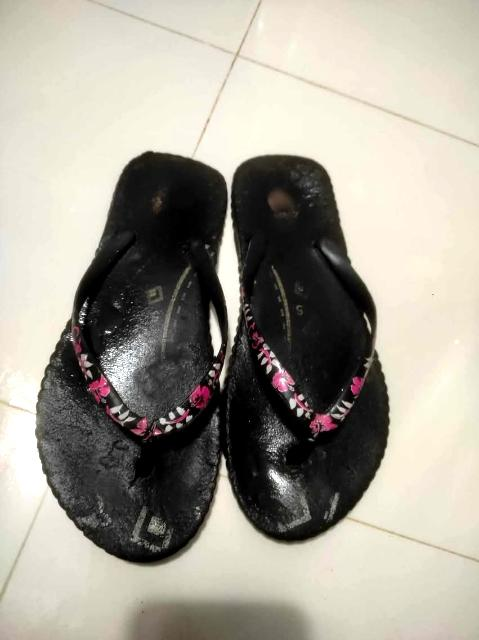sandal: (16, 131, 259, 591), (166, 106, 408, 555)
